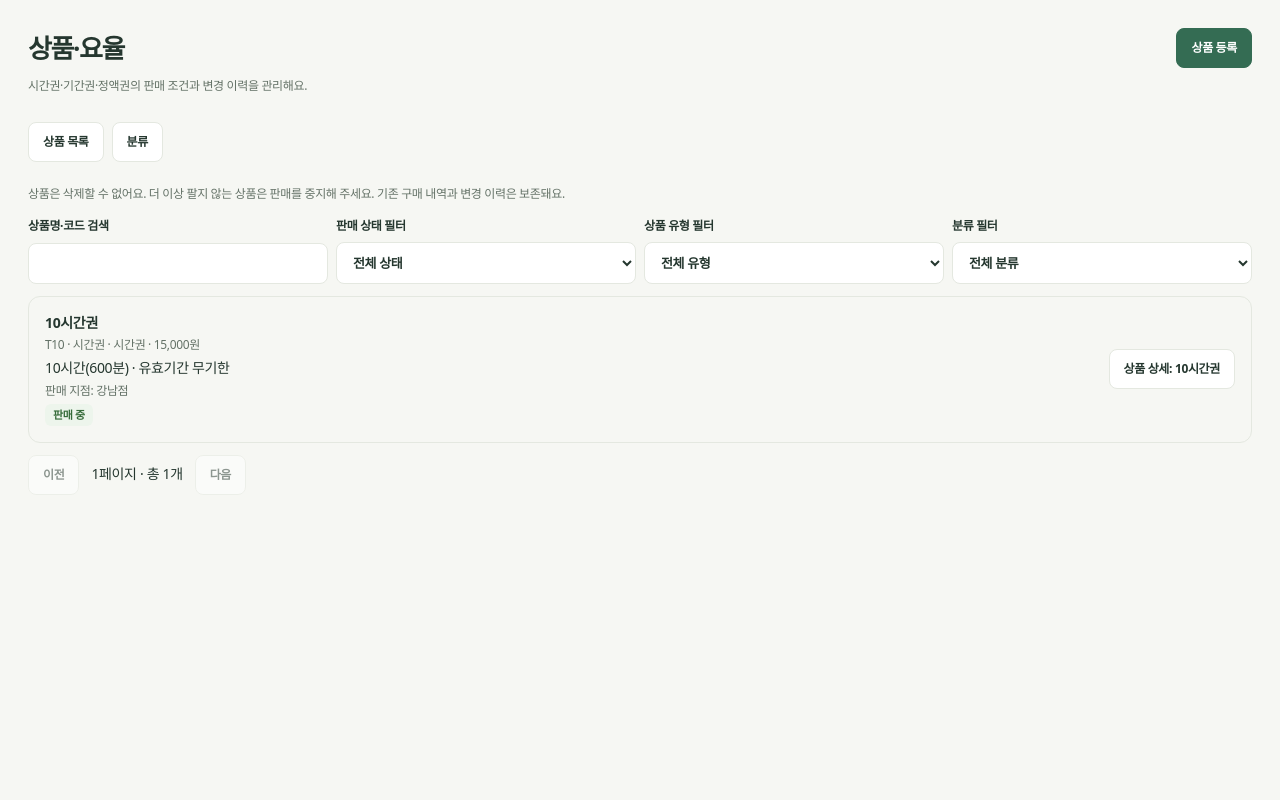
shows what changed in each revision and the first registration
This screenshot has width=1280, height=800.
Click the button "상품 상세: 10시간권" at (1172, 369), box [1108, 349, 1235, 389]
(page scrolled)
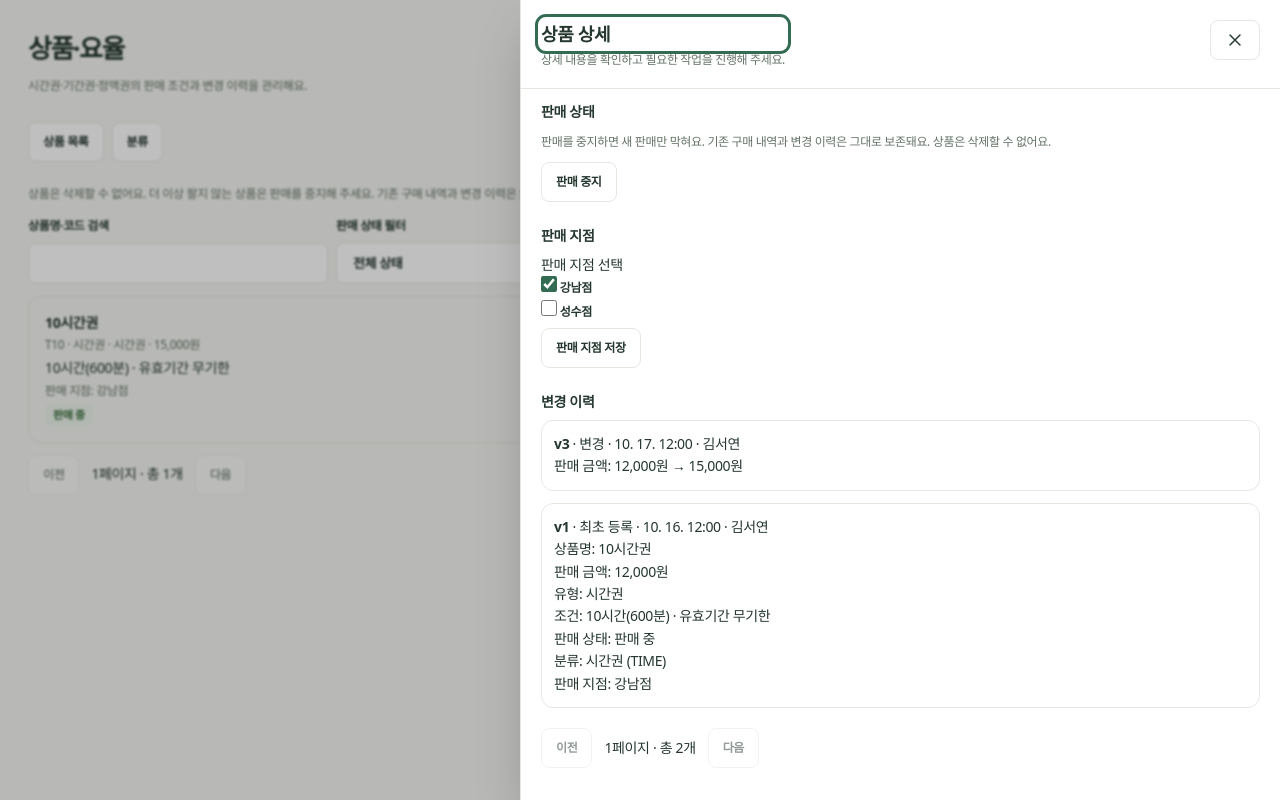
Now the text "v3" is shown, box [554, 434, 569, 453]
Now the list item "판매 금액: 12,000원 → 15,000원" is shown, box [554, 456, 743, 476]
Now the list item "판매 금액: 12,000원" is shown, box [554, 562, 668, 581]
